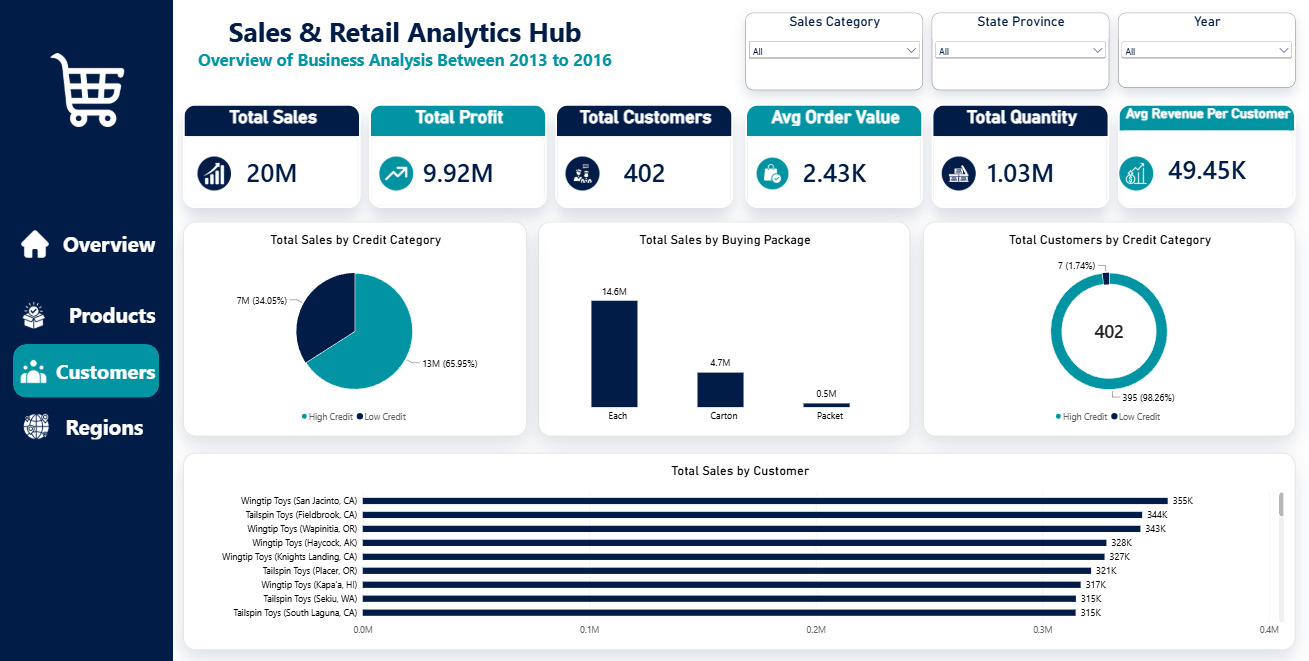

What the dashboard file says about the page in this screenshot:
{"tool":"powerbi","page":{"name":"Customers","canvas":[2110,1070],"ordinal":2},"visuals":[{"type":"shape","box":[10,0,278,1070],"z":0},{"type":"textbox","box":[304,30,710,108],"z":1000},{"type":"cardVisual","title":"Total Sales","fields":{"Data":["FactSale.Total Sales"]},"box":[304,176,284,166],"z":2000},{"type":"cardVisual","title":"Total Profit","fields":{"Data":["FactSale.Total Profit"]},"box":[602,176,284,166],"z":3000},{"type":"cardVisual","title":"Avg Order Value","fields":{"Data":["FactSale.Average Order Value"]},"box":[1204,176,284,166],"z":4000},{"type":"cardVisual","title":"Avg Revenue Per Customer","fields":{"Data":["DimCustomer.Average Revenue Per Customer"]},"box":[1800,176,284,166],"z":5000},{"type":"cardVisual","title":"Total Quantity","fields":{"Data":["FactSale.Total Quantity"]},"box":[1502,176,284,166],"z":6000},{"type":"cardVisual","title":"Total Customers","fields":{"Data":["DimCustomer.Total Customers"]},"box":[900,176,284,166],"z":7000},{"type":"slicer","title":"Year","fields":{"Values":["DimDate.Date.Variation.Date Hierarchy.Year"]},"box":[1800,30,284,120],"z":8000},{"type":"slicer","title":"State Province","fields":{"Values":["DimCity.State Province"]},"box":[1502,30,284,124],"z":9000},{"type":"slicer","title":"Sales Category","fields":{"Values":["FactSale.Sales Category"]},"box":[1204,30,284,124],"z":10000},{"type":"image","box":[304,260,100,54],"z":11000},{"type":"image","box":[602,260,86,54],"z":12000},{"type":"image","box":[1502,260,86,54],"z":13000},{"type":"image","box":[1786,260,86,54],"z":14000},{"type":"shape","box":[88,356,178,86],"z":15000},{"type":"image","box":[34,378,66,44],"z":16000},{"type":"shape","box":[32,470,234,86],"z":17000},{"type":"image","box":[32,492,66,44],"z":18000},{"type":"shape","box":[32,560,234,86],"z":19000},{"type":"image","box":[42,582,46,44],"z":20000},{"type":"shape","box":[100,648,156,86],"z":21000},{"type":"image","box":[36,670,66,44],"z":22000},{"type":"image","box":[82,92,136,122],"z":23000},{"type":"image","box":[900,260,86,54],"z":24000},{"type":"image","box":[1204,260,86,54],"z":25000},{"type":"columnChart","fields":{"Category":["DimStockItem.Buying Package"],"Y":["FactSale.Total Sales"]},"box":[872,364,596,344],"z":26000},{"type":"pieChart","fields":{"Category":["DimCustomer.Credit Category"],"Y":["FactSale.Total Sales"]},"box":[304,364,550,344],"z":27000},{"type":"donutChart","fields":{"Category":["DimCustomer.Credit Category"],"Y":["DimCustomer.Total Customers"]},"box":[1488,364,596,344],"z":28000},{"type":"barChart","fields":{"Category":["DimCustomer.Customer"],"Y":["FactSale.Total Sales"]},"box":[304,734,1780,316],"z":29000}]}

Visuals, with their boxes in screenshot pixels (x1, y1, x2, y2), scaled from the page's 2110x1070 canvas onto the 1309x661 screenshot:
shape: (left=6, top=0, right=179, bottom=660)
textbox: (left=189, top=19, right=629, bottom=85)
"Total Sales" cardVisual: (left=189, top=109, right=365, bottom=211)
"Total Profit" cardVisual: (left=373, top=109, right=550, bottom=211)
"Avg Order Value" cardVisual: (left=747, top=109, right=923, bottom=211)
"Avg Revenue Per Customer" cardVisual: (left=1117, top=109, right=1293, bottom=211)
"Total Quantity" cardVisual: (left=932, top=109, right=1108, bottom=211)
"Total Customers" cardVisual: (left=558, top=109, right=735, bottom=211)
"Year" slicer: (left=1117, top=19, right=1293, bottom=93)
"State Province" slicer: (left=932, top=19, right=1108, bottom=95)
"Sales Category" slicer: (left=747, top=19, right=923, bottom=95)
image: (left=189, top=161, right=251, bottom=194)
image: (left=373, top=161, right=427, bottom=194)
image: (left=932, top=161, right=985, bottom=194)
image: (left=1108, top=161, right=1161, bottom=194)
shape: (left=55, top=220, right=165, bottom=273)
image: (left=21, top=234, right=62, bottom=261)
shape: (left=20, top=290, right=165, bottom=343)
image: (left=20, top=304, right=61, bottom=331)
shape: (left=20, top=346, right=165, bottom=399)
image: (left=26, top=360, right=55, bottom=387)
shape: (left=62, top=400, right=159, bottom=453)
image: (left=22, top=414, right=63, bottom=441)
image: (left=51, top=57, right=135, bottom=132)
image: (left=558, top=161, right=612, bottom=194)
image: (left=747, top=161, right=800, bottom=194)
columnChart - DimStockItem.Buying Package x FactSale.Total Sales: (left=541, top=225, right=911, bottom=437)
pieChart - DimCustomer.Credit Category x FactSale.Total Sales: (left=189, top=225, right=530, bottom=437)
donutChart - DimCustomer.Credit Category x DimCustomer.Total Customers: (left=923, top=225, right=1293, bottom=437)
barChart - DimCustomer.Customer x FactSale.Total Sales: (left=189, top=453, right=1293, bottom=649)
